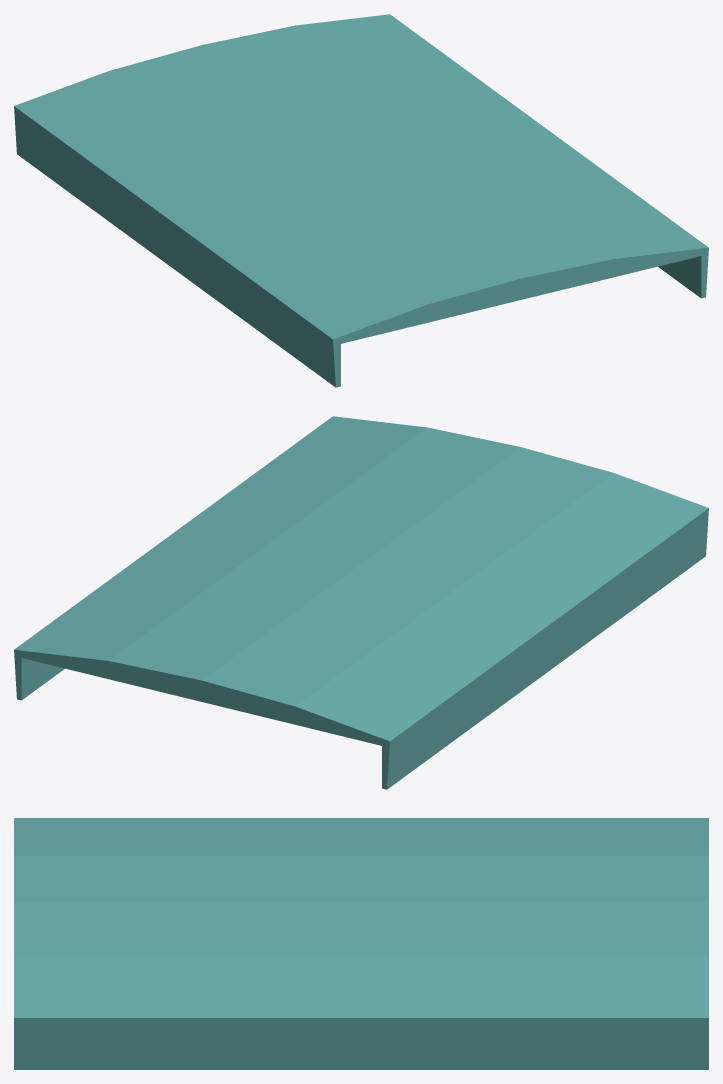
Rendered from Itr_Bed_Single_Blanket_13.FBX.
3 views of the same model, one above another, from view 1: azimuth 30°, elevation 25°; view 2: azimuth 150°, elevation 25°; view 3: azimuth 270°, elevation 25° (orthographic). The views are drawn at different scales.
Visible parts, largest first — view 1: Itr_Bed_Single_Blanket_13; view 2: Itr_Bed_Single_Blanket_13; view 3: Itr_Bed_Single_Blanket_13.
Part boxes in pixels (left/top/right/bottom): Itr_Bed_Single_Blanket_13: left=14, top=14, right=708, bottom=387; Itr_Bed_Single_Blanket_13: left=14, top=416, right=708, bottom=789; Itr_Bed_Single_Blanket_13: left=14, top=818, right=708, bottom=1069.
Size of the model in its own units: 44.15 by 7.19 by 64.86.
